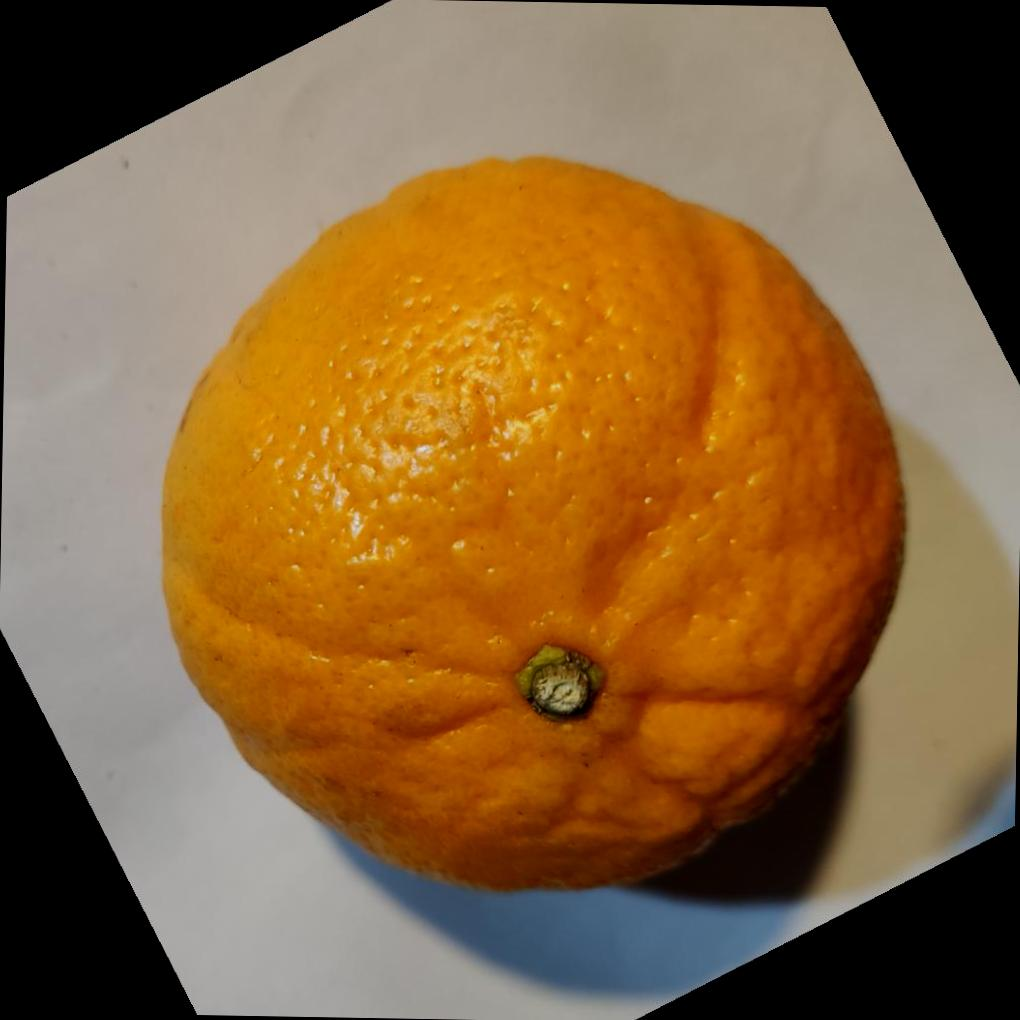FreshGuava: (156, 149, 910, 891)
